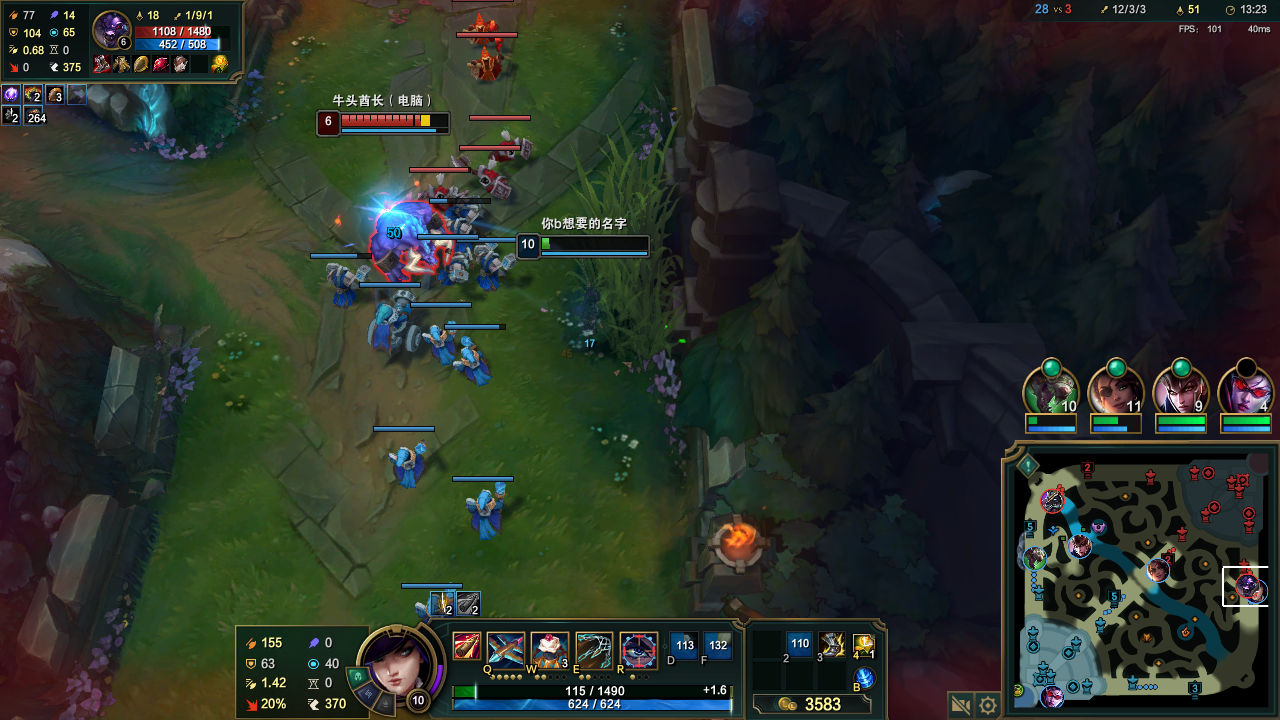DFXB: (469, 161, 499, 192), (460, 19, 497, 41), (468, 52, 500, 77), (490, 137, 522, 159), (426, 183, 453, 207)
DFYX: (339, 114, 443, 127)
WFXB: (367, 289, 419, 344), (456, 339, 506, 382), (470, 486, 506, 537), (385, 442, 425, 485), (327, 263, 367, 306), (471, 246, 501, 288), (431, 316, 455, 359), (443, 214, 477, 243), (439, 252, 469, 281)
